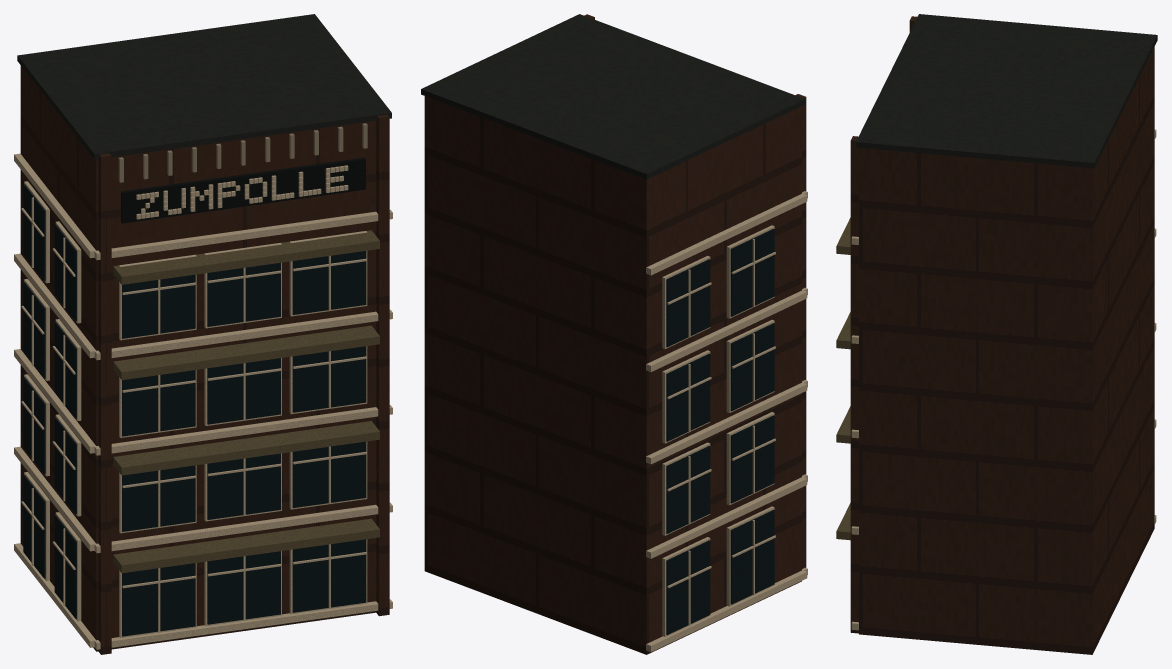
3 renders of one model, left to right at view 1: azimuth 30°, elevation 25°; view 2: azimuth 150°, elevation 25°; view 3: azimuth 270°, elevation 25°, orthographic. The views are drawn at different scales.
Parts seen in each view (by area): view 1: zumpolle-hoofdsteeg-0, zumpolle-hoofdsteeg-3, zumpolle-hoofdsteeg-2, zumpolle-hoofdsteeg-1, zumpolle-hoofdsteeg-5, zumpolle-hoofdsteeg-6, zumpolle-hoofdsteeg-4; view 2: zumpolle-hoofdsteeg-0, zumpolle-hoofdsteeg-1, zumpolle-hoofdsteeg-3, zumpolle-hoofdsteeg-2; view 3: zumpolle-hoofdsteeg-0, zumpolle-hoofdsteeg-1, zumpolle-hoofdsteeg-5, zumpolle-hoofdsteeg-2.
Boxes of the visible parts, x1,y1,x2,y2 form: zumpolle-hoofdsteeg-0: (20, 65, 389, 654); zumpolle-hoofdsteeg-3: (23, 184, 366, 636); zumpolle-hoofdsteeg-2: (14, 153, 392, 649); zumpolle-hoofdsteeg-1: (17, 14, 391, 159); zumpolle-hoofdsteeg-5: (113, 230, 379, 573); zumpolle-hoofdsteeg-6: (121, 157, 365, 223); zumpolle-hoofdsteeg-4: (118, 123, 367, 182); zumpolle-hoofdsteeg-0: (424, 14, 806, 654); zumpolle-hoofdsteeg-1: (421, 14, 805, 179); zumpolle-hoofdsteeg-3: (666, 228, 774, 635); zumpolle-hoofdsteeg-2: (646, 191, 807, 651); zumpolle-hoofdsteeg-0: (850, 16, 1154, 654); zumpolle-hoofdsteeg-1: (856, 14, 1157, 168); zumpolle-hoofdsteeg-5: (836, 217, 850, 540); zumpolle-hoofdsteeg-2: (851, 129, 1156, 630).
Size of the model in its own units: 14.04 by 21.44 by 12.65.
Materials: 7 (7 with a texture image).
